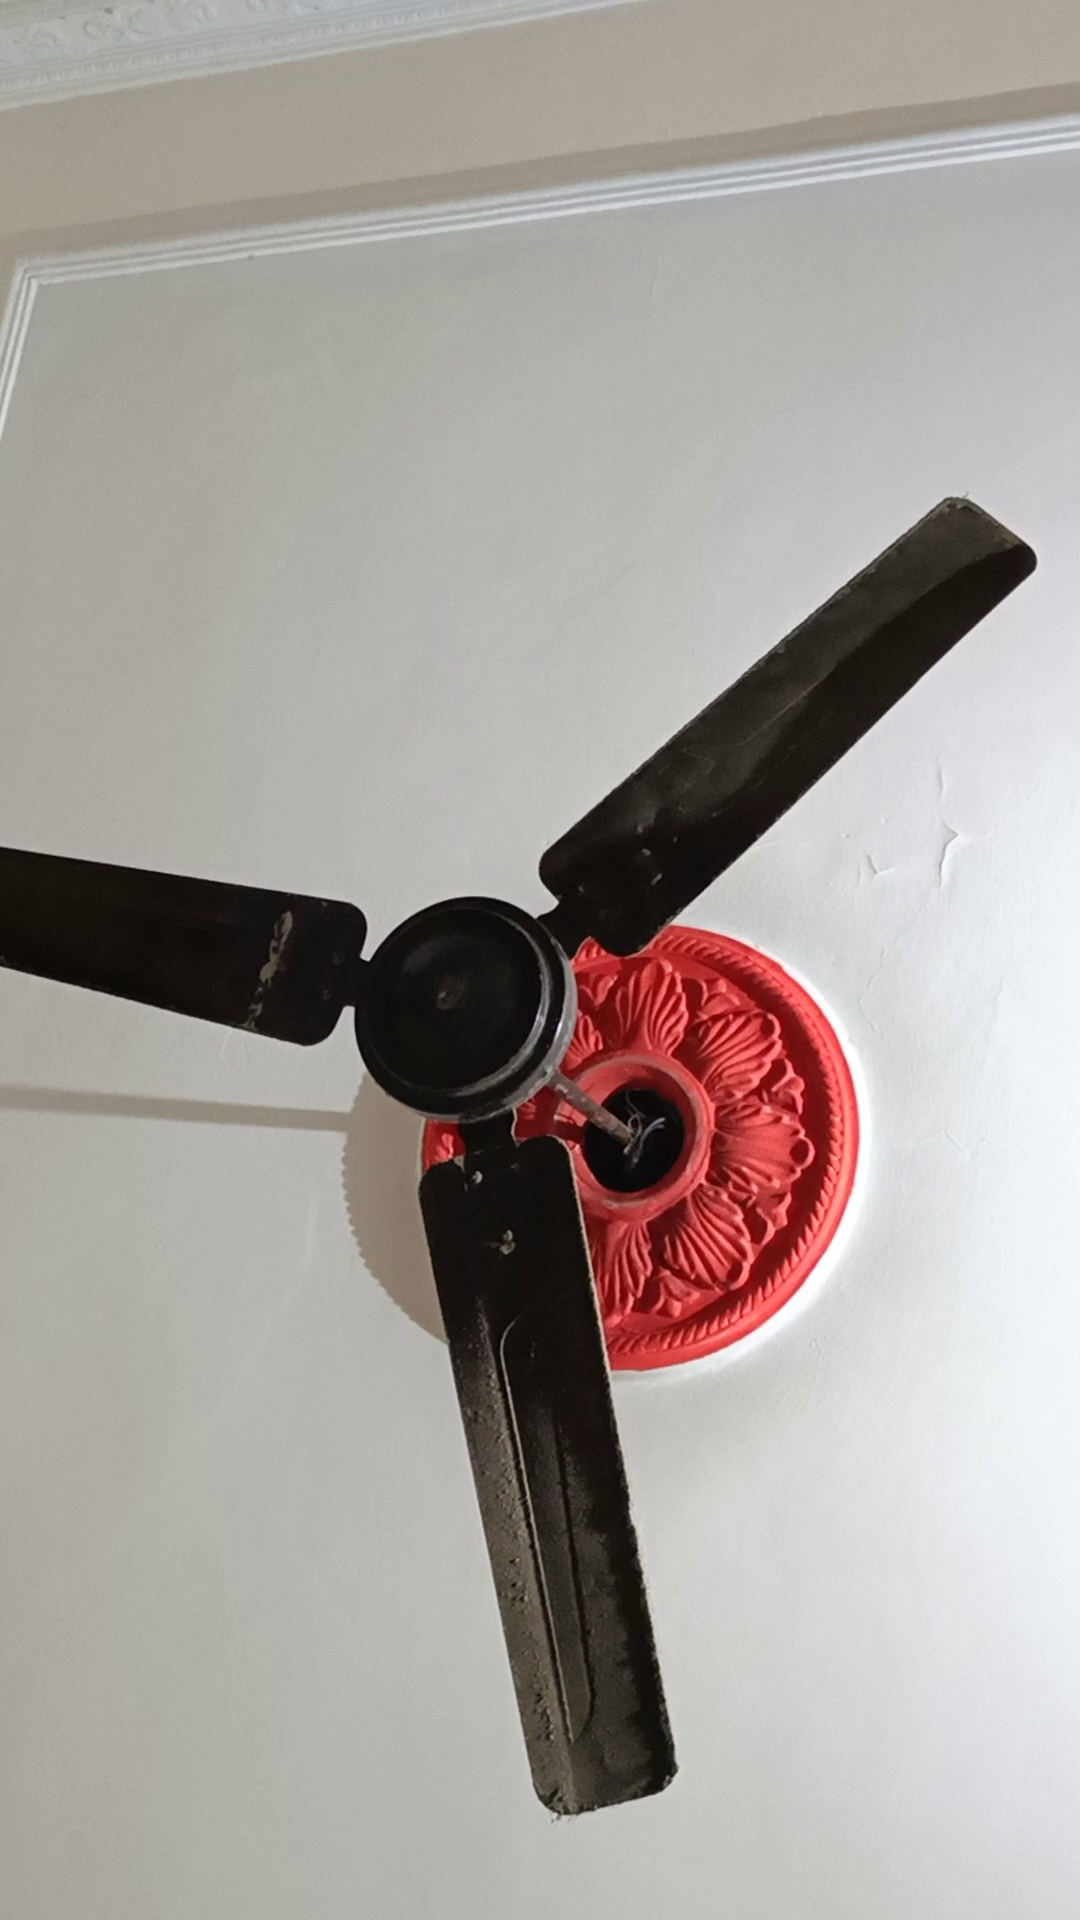fan: (17, 495, 1080, 1826)
